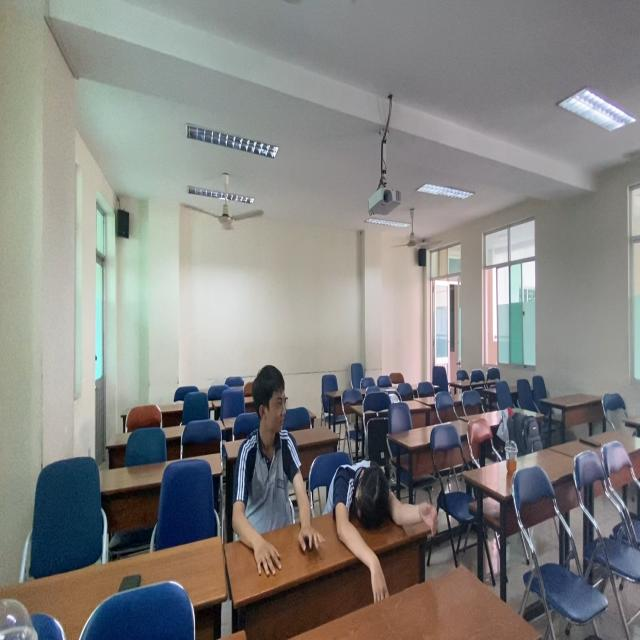sleep: (327, 449, 445, 591)
